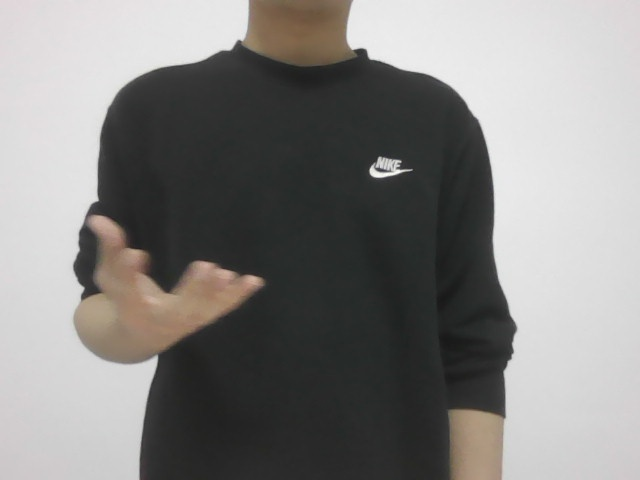flavor: (65, 206, 271, 351)
